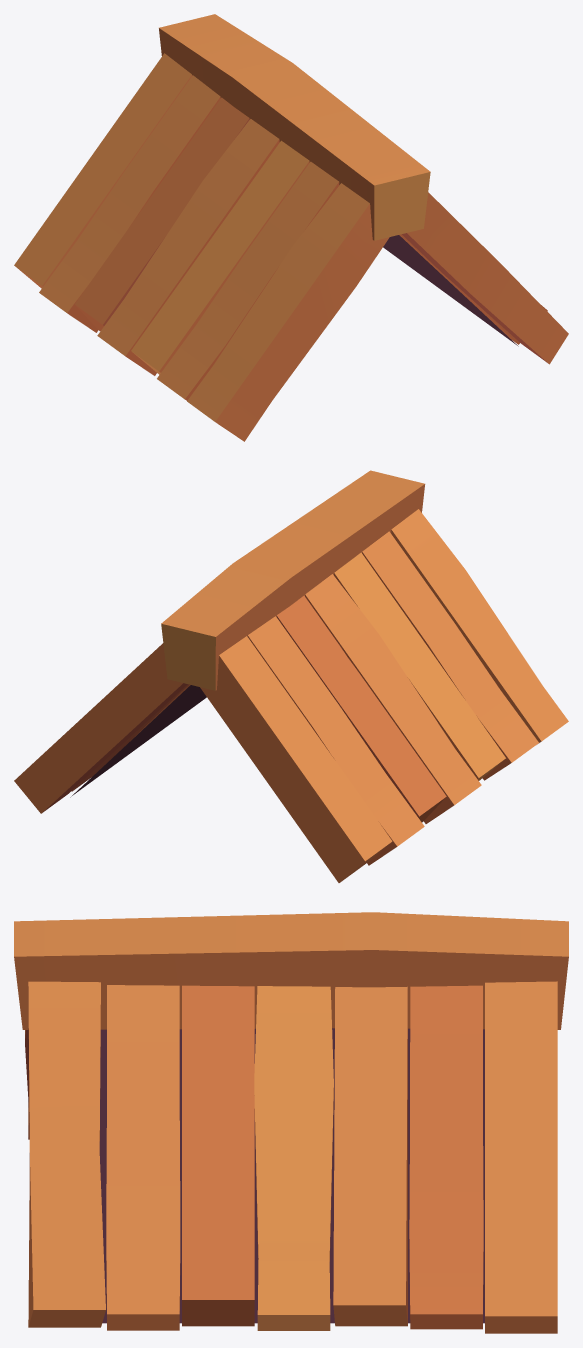
The model's file is Roof02_Wood.glb.
3 views of the same model, one above another, from view 1: azimuth 30°, elevation 25°; view 2: azimuth 150°, elevation 25°; view 3: azimuth 270°, elevation 25° (orthographic). The views are drawn at different scales.
Visible parts, largest first — view 1: Roof02_Wood; view 2: Roof02_Wood; view 3: Roof02_Wood.
Boxes of the visible parts, x1,y1,x2,y2 form: Roof02_Wood: [14, 14, 568, 441]; Roof02_Wood: [14, 470, 568, 882]; Roof02_Wood: [14, 912, 568, 1333].
Bounding box in the file's own units: 2.41 × 1.49 × 2.46.
1 material, 1 textured.
